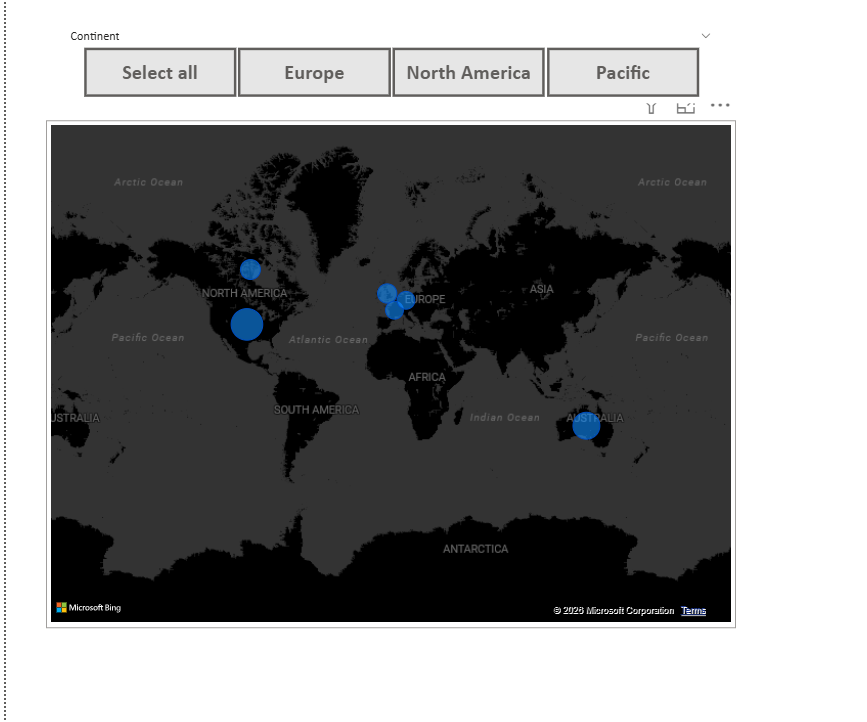

What the dashboard file says about the page in this screenshot:
{"tool":"powerbi","page":{"name":"Map","canvas":[1280,720],"ordinal":1},"visuals":[{"type":"map","fields":{"Category":["Territory Lookup.Country"],"Size":["Measure Table.Total Orders"]},"box":[39,128.4,675.2,496.3],"z":0},{"type":"slicer","fields":{"Values":["Territory Lookup.Continent"]},"box":[50.5,34.6,652.1,77.9],"z":1000}]}

Visuals, with their boxes on the page's 1280x720 design canvas (x1, y1, x2, y2). These are canvas units, not pixel positions in the 867x722 screenshot, which may show the page scaled, cropped or inside an application window:
map - Territory Lookup.Country x Measure Table.Total Orders: pyautogui.locateOnScreen(39, 128, 714, 625)
slicer - Territory Lookup.Continent: pyautogui.locateOnScreen(50, 35, 703, 112)
